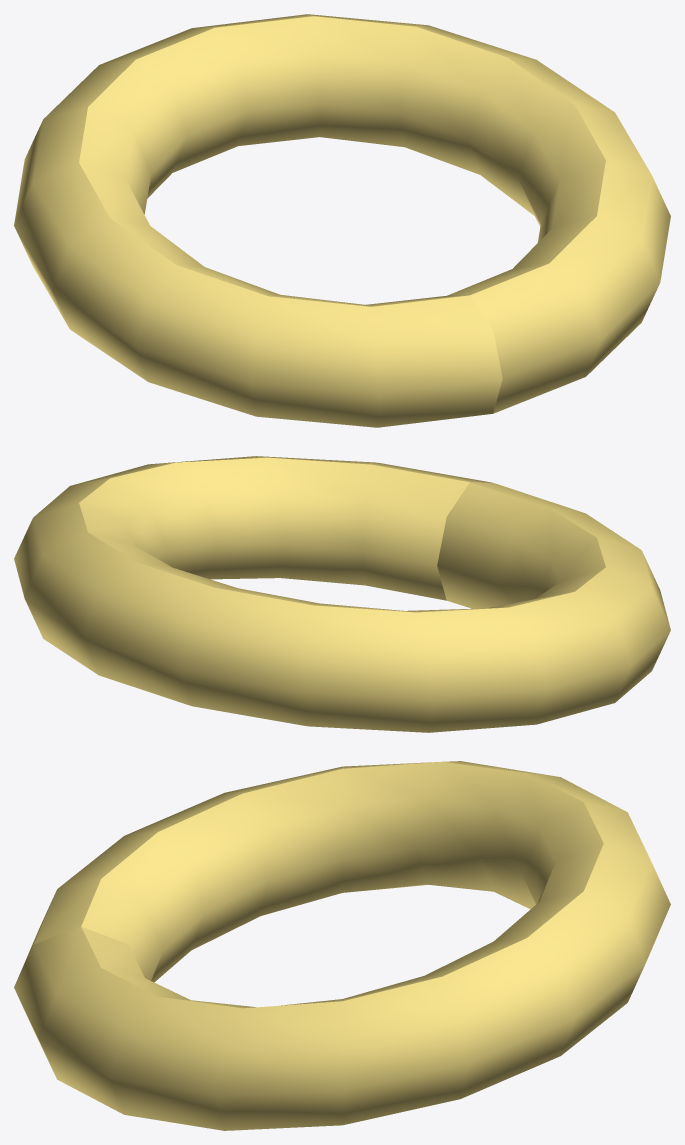
Rendered from man_truyen_thong.glb.
3 renders of one model, top to bottom at view 1: azimuth 30°, elevation 25°; view 2: azimuth 150°, elevation 25°; view 3: azimuth 270°, elevation 25°, orthographic. The views are drawn at different scales.
Visible parts, largest first — view 1: Accessory_Man_Node; view 2: Accessory_Man_Node; view 3: Accessory_Man_Node.
Part boxes in pixels (x1=…): Accessory_Man_Node: x1=14, y1=14, x2=670, y2=427; Accessory_Man_Node: x1=14, y1=456, x2=670, y2=732; Accessory_Man_Node: x1=14, y1=761, x2=670, y2=1130.
Bounding box in the file's own units: 0.224 × 0.074 × 0.215.
